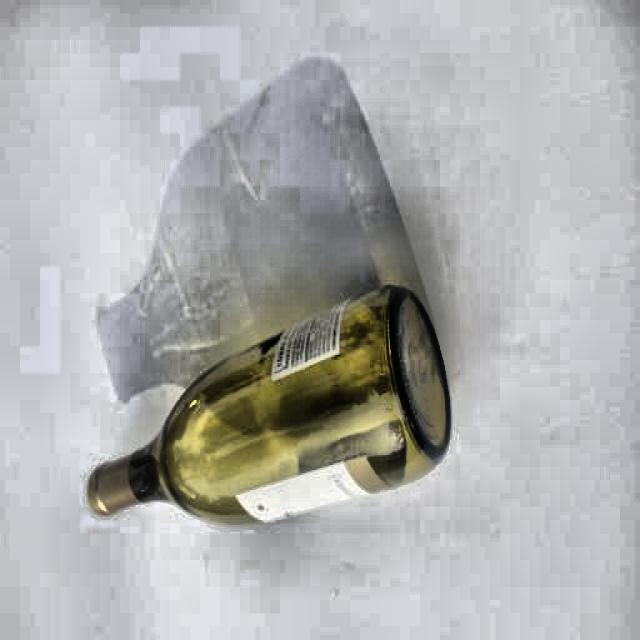glass: (79, 281, 455, 523)
